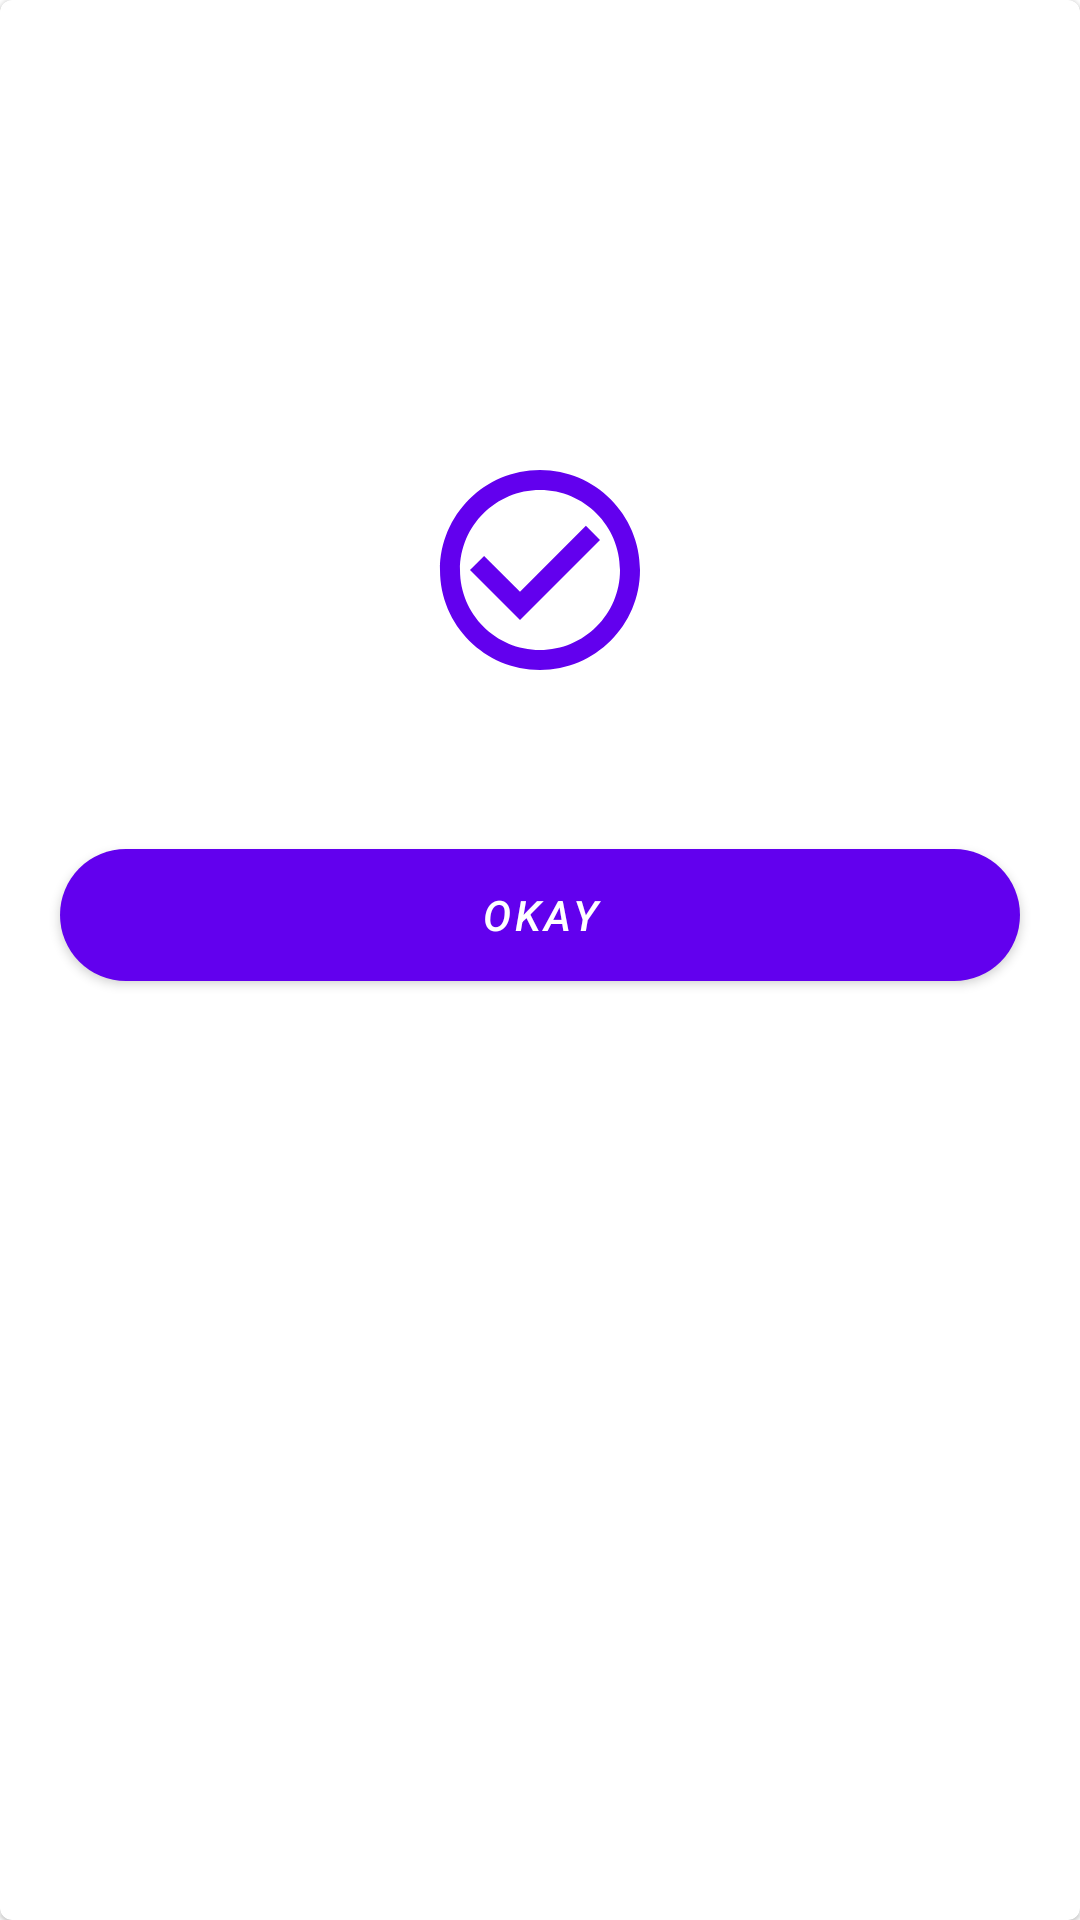

Screen size 1080 × 1920. Icon name, then its center in pixels as point (x, y):
check mark: point (539, 570)
